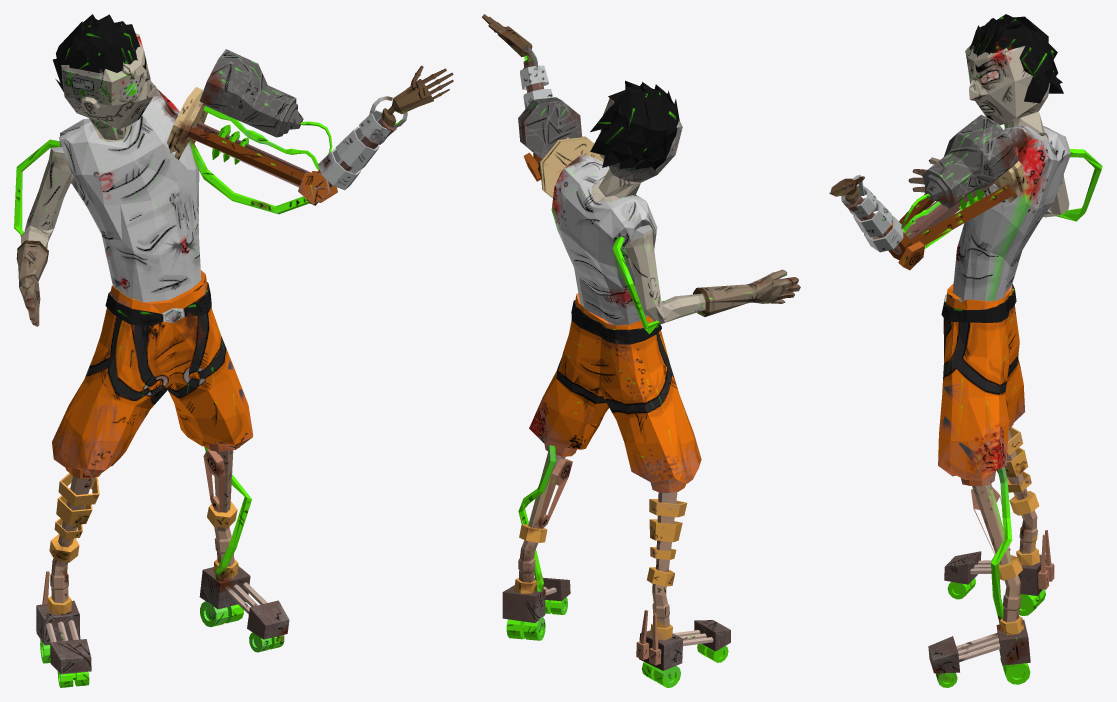
The model's file is CyborgFINALAnimation_000040.obj.
3 renders of one model, left to right at view 1: azimuth 30°, elevation 25°; view 2: azimuth 150°, elevation 25°; view 3: azimuth 270°, elevation 25°, orthographic. The views are drawn at different scales.
Visible parts, largest first — view 1: CyborgMesh_Cube.002; view 2: CyborgMesh_Cube.002; view 3: CyborgMesh_Cube.002.
Part boxes in pixels (x1,y1,x2,y2): CyborgMesh_Cube.002: (14,14,453,687); CyborgMesh_Cube.002: (482,14,800,687); CyborgMesh_Cube.002: (829,14,1102,687).
Size of the model in its own units: 6.01 by 9.56 by 3.88.
